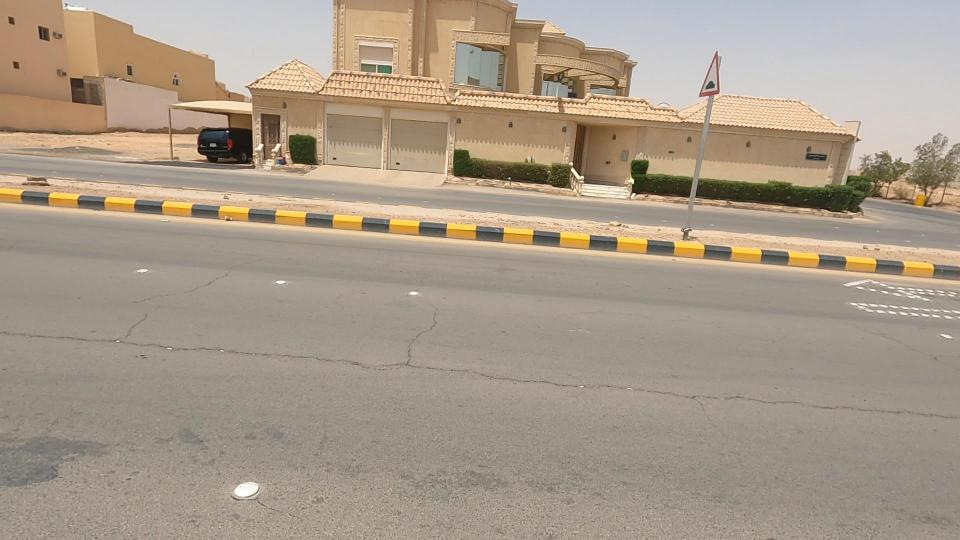CLUTTER_SIDEWALK: (127, 156, 368, 248), (385, 195, 664, 266), (664, 213, 920, 278)
